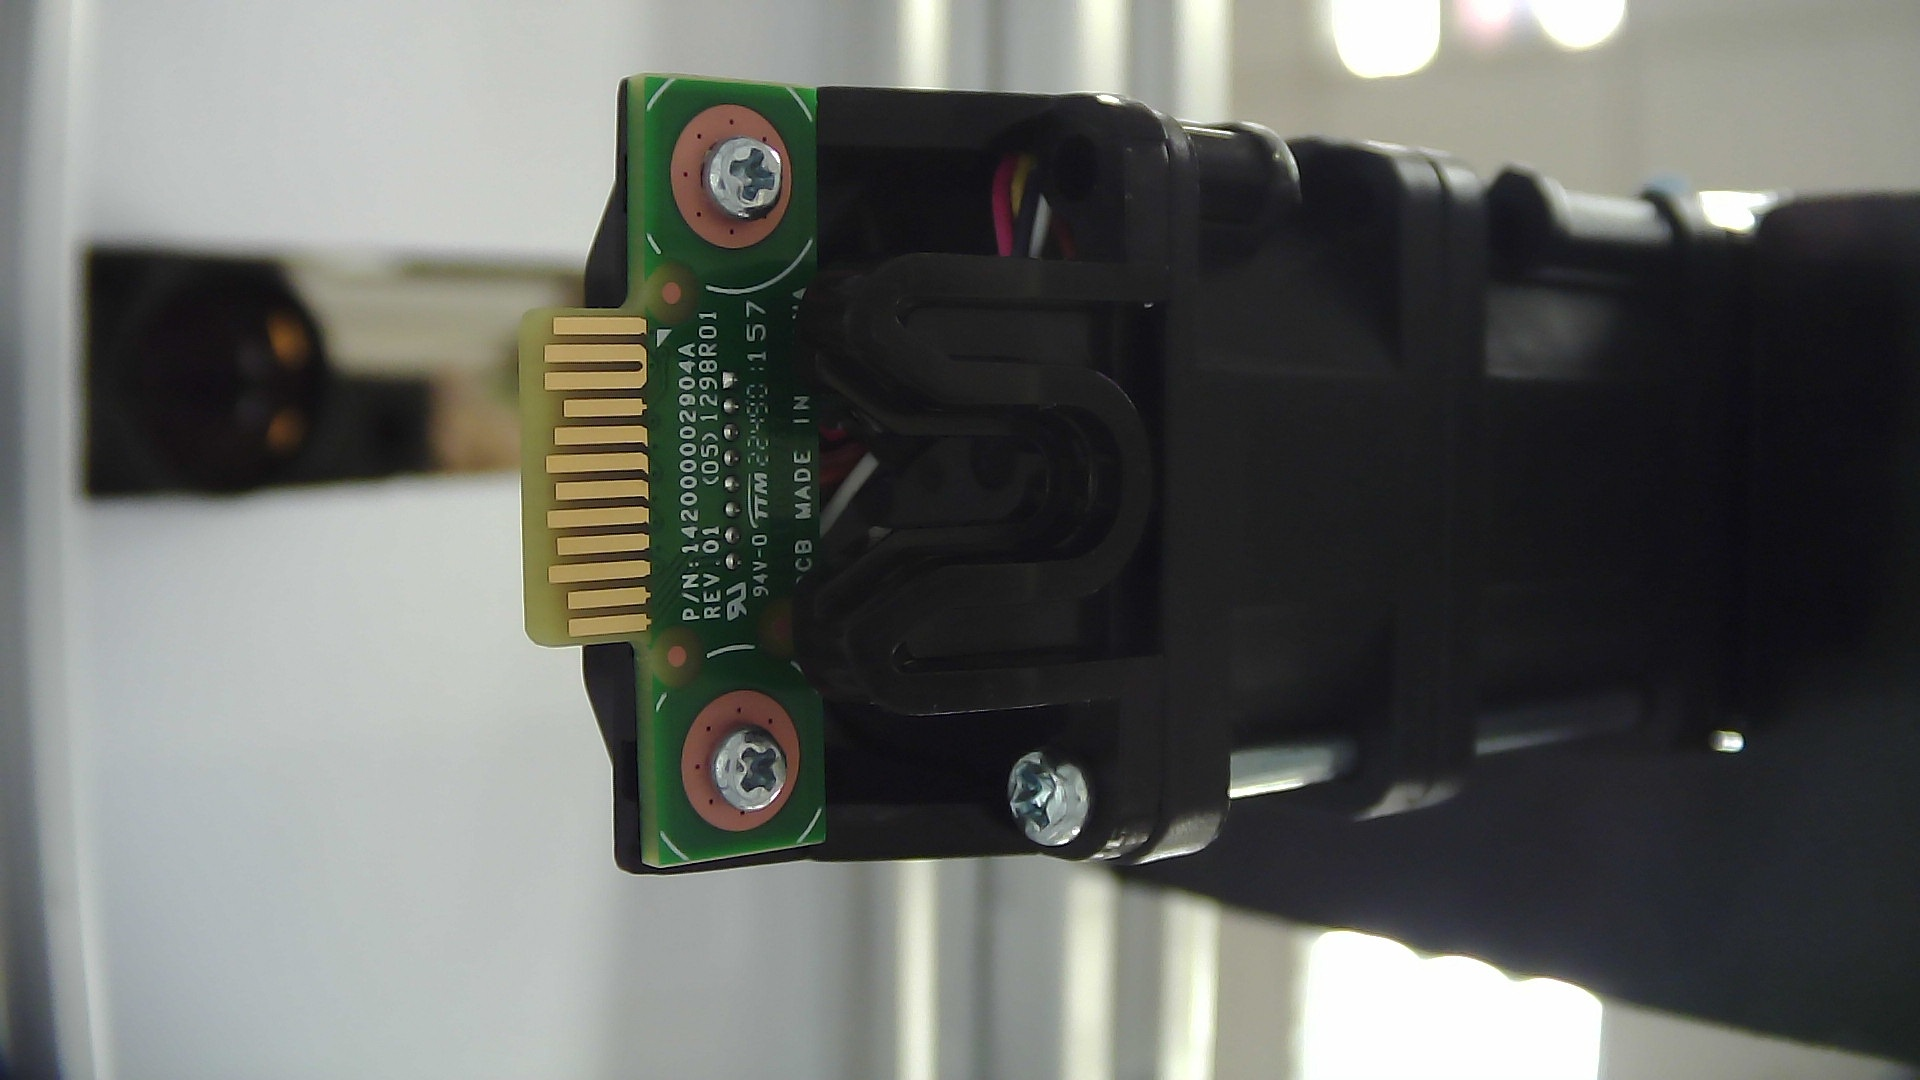7_0: (456, 29, 1820, 924)
